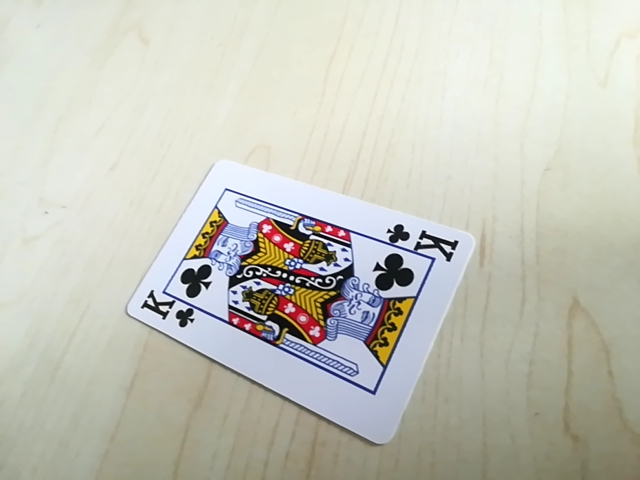mh k: (384, 225, 463, 259), (135, 294, 201, 329)
